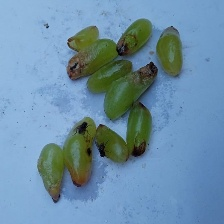grapes: (30, 29, 187, 184)
